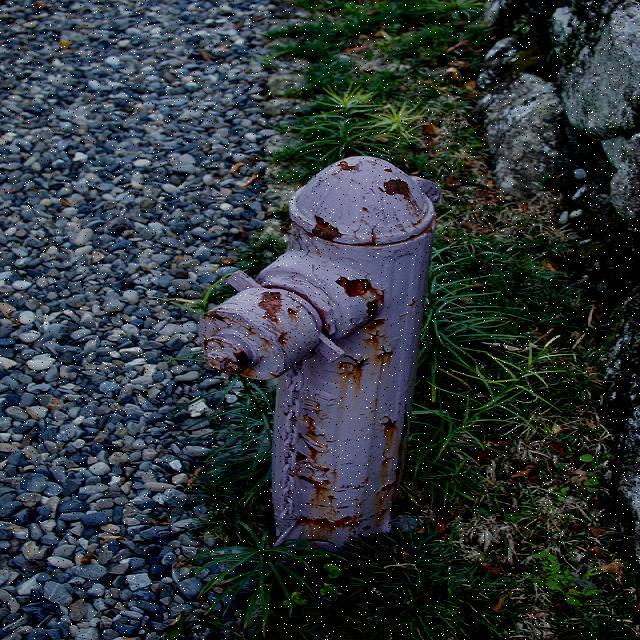fire_hydrant: (195, 157, 446, 552)
